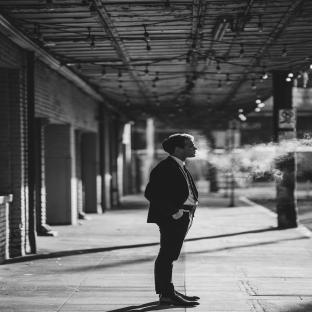Human: (144, 134, 199, 305)
